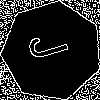J: (27, 25, 79, 63)
